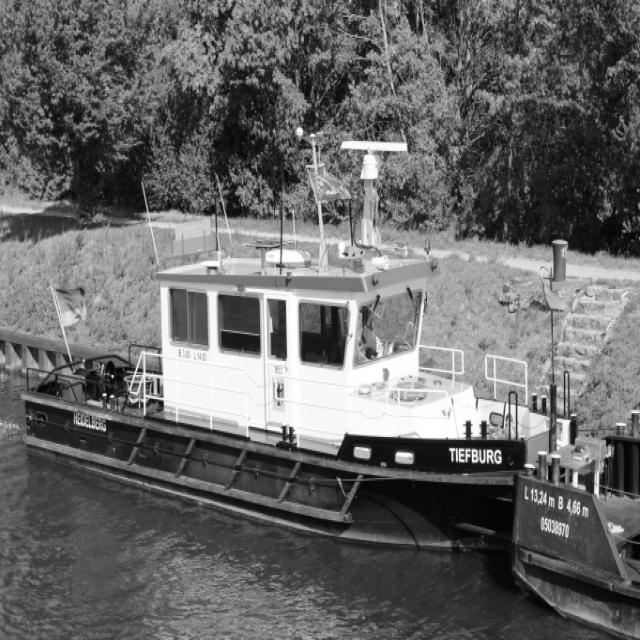tugboat: (19, 136, 586, 575)
